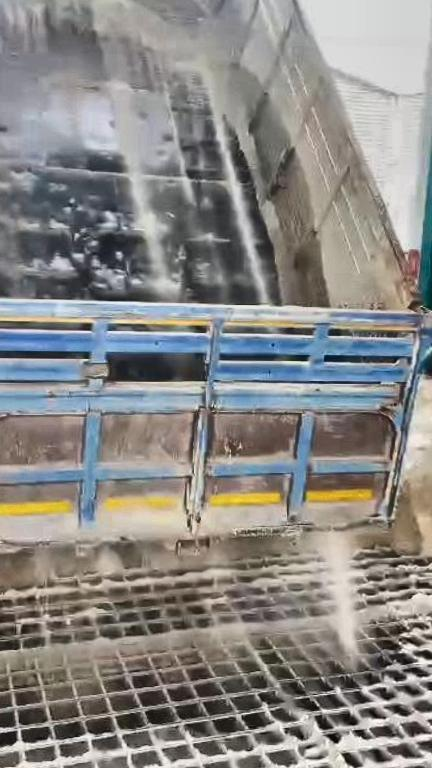sand: (0, 379, 432, 595), (0, 0, 303, 305), (0, 612, 348, 675), (321, 534, 357, 666), (302, 720, 384, 768), (356, 589, 432, 633), (161, 0, 201, 2)
